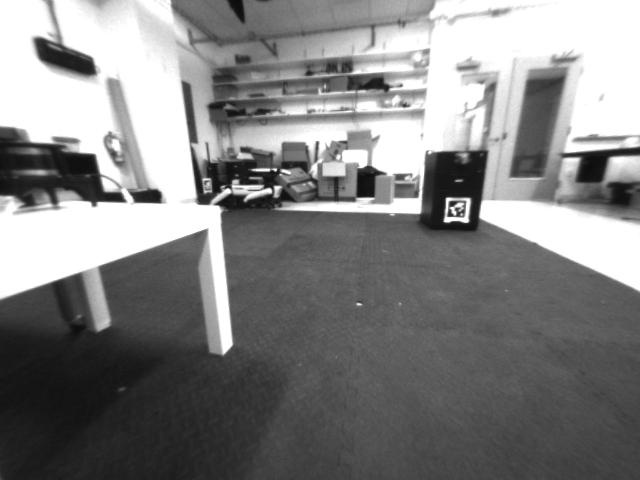door_handle: (484, 134, 500, 145)
drawer: (450, 150, 475, 168)
